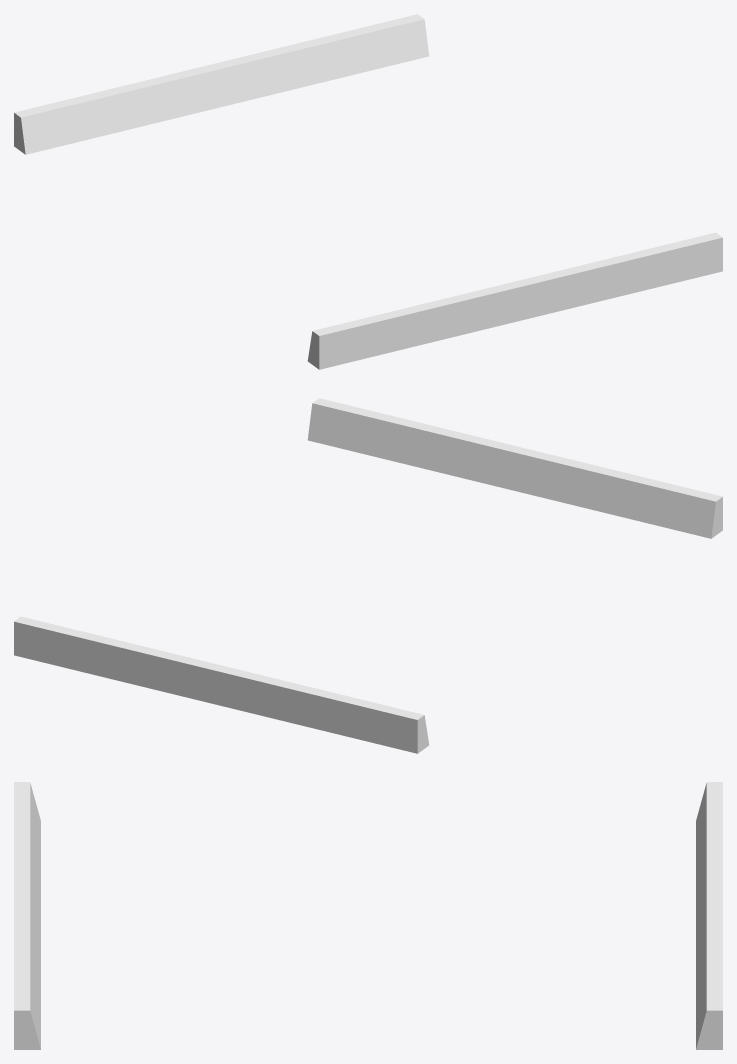
The model's file is road-side-barrier.glb.
3 views of the same model, one above another, from view 1: azimuth 30°, elevation 25°; view 2: azimuth 150°, elevation 25°; view 3: azimuth 270°, elevation 25° (orthographic). The views are drawn at different scales.
Parts seen in each view (by area): view 1: road-side-barrier; view 2: road-side-barrier; view 3: road-side-barrier.
Part boxes in pixels (x1,y1,x2,y2): road-side-barrier: (14, 14, 722, 369); road-side-barrier: (14, 398, 722, 753); road-side-barrier: (14, 782, 722, 1049).
Size of the model in its own units: 1 by 0.08 by 1.31.
Materials: 1 (1 with a texture image).
